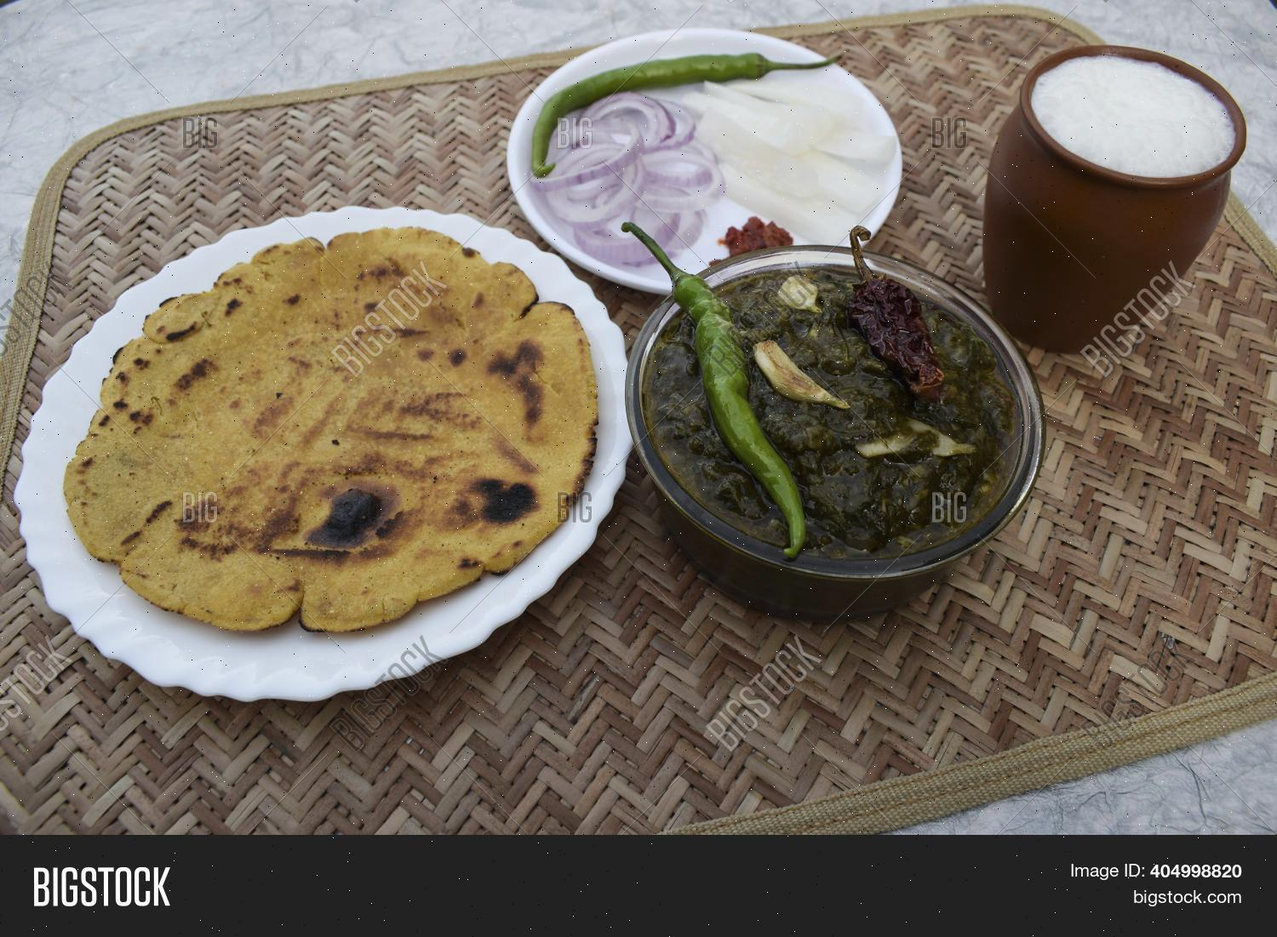saag: (657, 262, 1019, 566)
